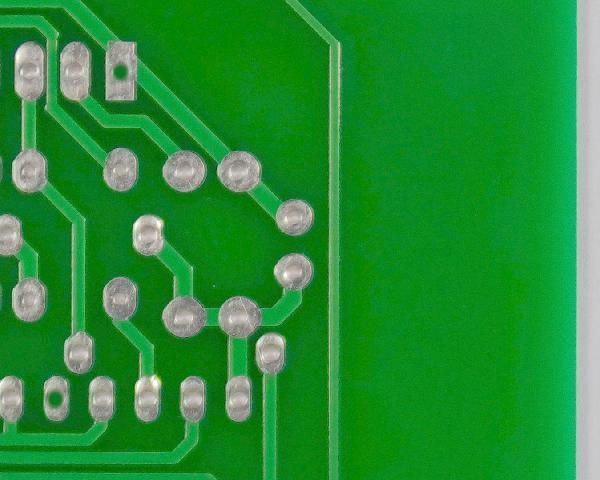missing hole: (102, 34, 142, 104), (40, 373, 76, 423)
